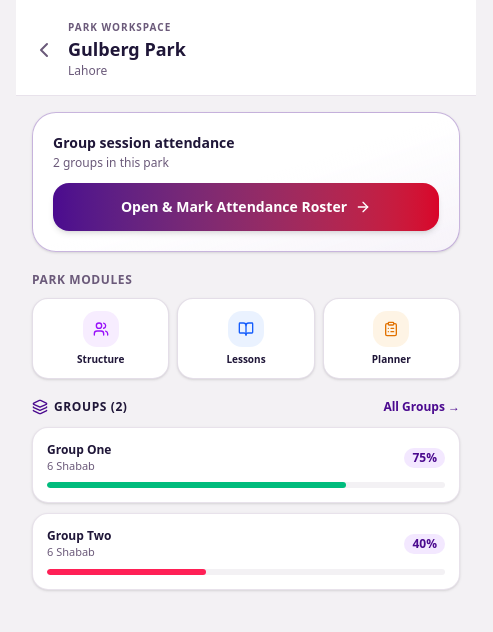
Scenario: MobileParkWorkspace › keeps Structure, Lessons and Planner as truthful unavailable states, not navigation
Step 1. Click the button with aria-label "Structure (not available yet)" → point(101, 338), box [32, 298, 169, 378]
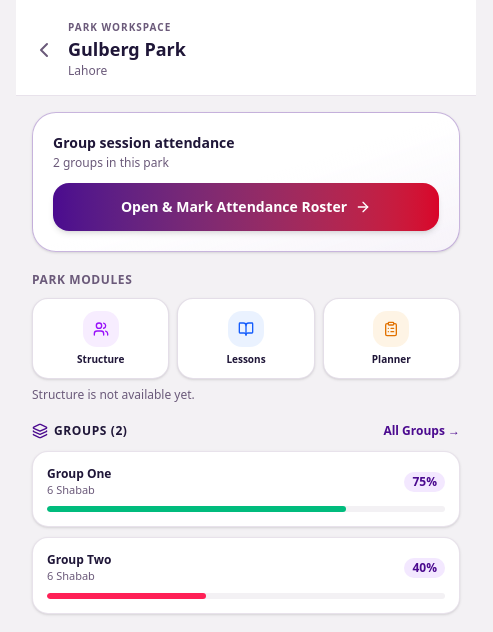
Now the text "Structure is not available yet." is shown, box [32, 386, 195, 402]
Step 2. Click the button with aria-label "Lessons (not available yet)" → point(246, 338), box [177, 298, 315, 378]
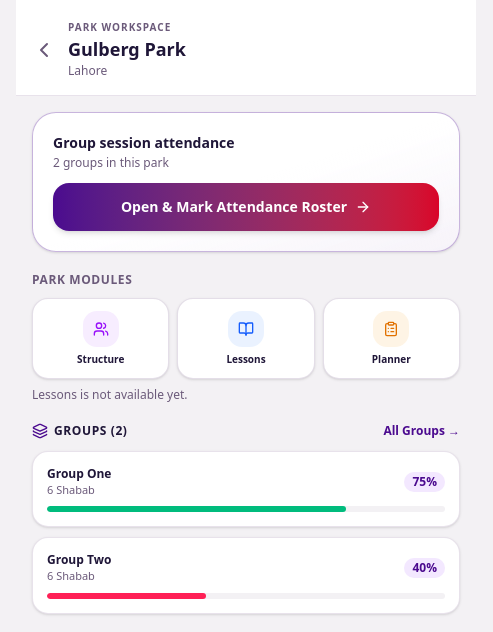
Now the text "Lessons is not available yet." is shown, box [32, 386, 188, 402]
Step 3. Click the button with aria-label "Planner (not available yet)" → point(391, 338), box [323, 298, 460, 378]
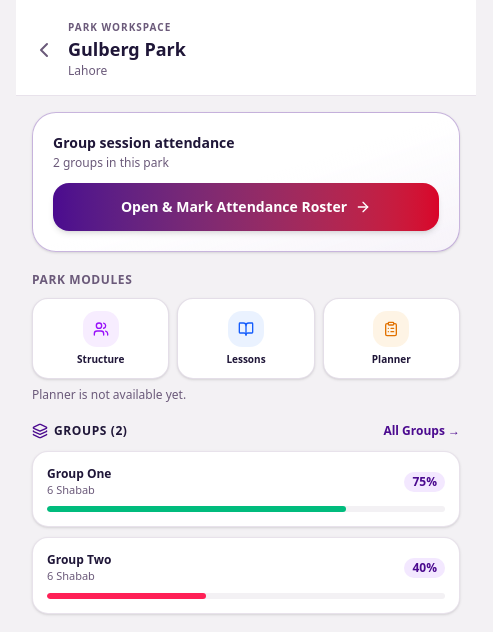
Expected: the text "Park workspace" is shown, [68, 20, 186, 35]
Now the text "Planner is not available yet." is shown, box [32, 386, 186, 402]
